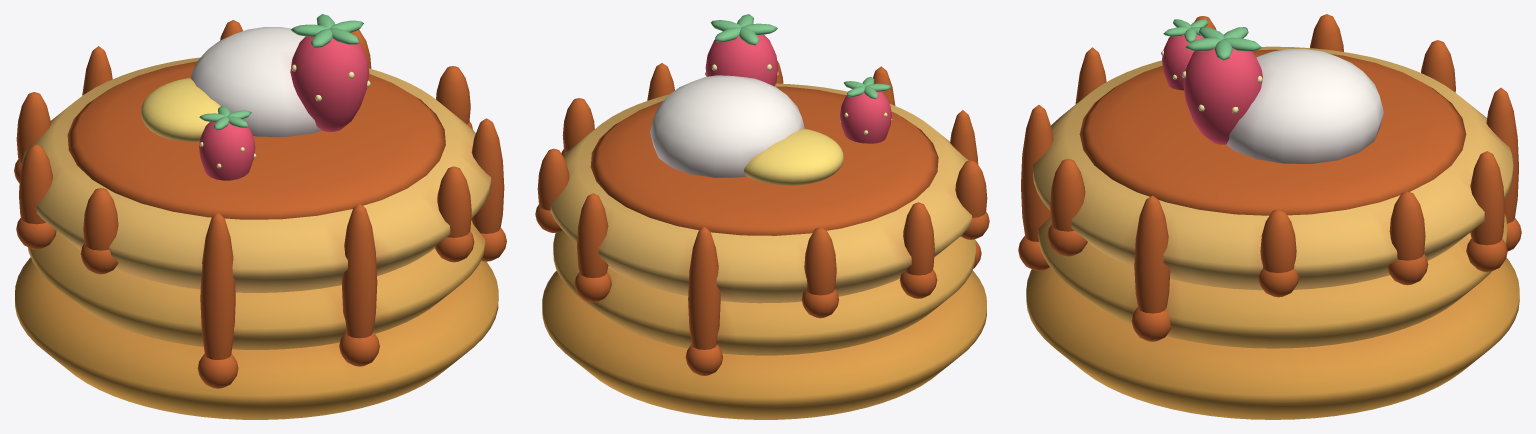
File: pancake.glb
3 renders of one model, left to right at view 1: azimuth 30°, elevation 25°; view 2: azimuth 150°, elevation 25°; view 3: azimuth 270°, elevation 25°, orthographic. The views are drawn at different scales.
Visible parts, largest first — view 1: cc8632b, cake_0, cake_2, cake_1, cream, cef5470, butter, c7cc68a; view 2: cc8632b, cake_0, cake_2, cake_1, cream, cef5470, butter, c7cc68a; view 3: cc8632b, cake_0, cake_2, cake_1, cream, cef5470, c7cc68a.
Boxes of the visible parts, x1,y1,x2,y2 form: cc8632b: (14,20,506,388); cake_0: (15,257,498,419); cake_2: (21,57,491,292); cake_1: (27,220,485,349); cream: (190,27,321,136); cef5470: (199,36,369,180); butter: (141,78,220,141); c7cc68a: (199,14,363,130); cc8632b: (535,61,989,375); cake_0: (542,270,986,419); cake_2: (550,83,972,303); cake_1: (553,230,975,355); cream: (650,75,804,177); cef5470: (705,34,891,143); butter: (744,128,843,185); c7cc68a: (710,14,891,99); cc8632b: (1018,14,1521,341); cake_0: (1026,257,1519,419); cake_2: (1033,46,1513,290); cake_1: (1038,214,1507,348); cream: (1226,49,1383,163); cef5470: (1162,34,1262,144); c7cc68a: (1163,19,1261,60).
Size of the model in its own units: 0.6129 by 0.425 by 0.6123.
